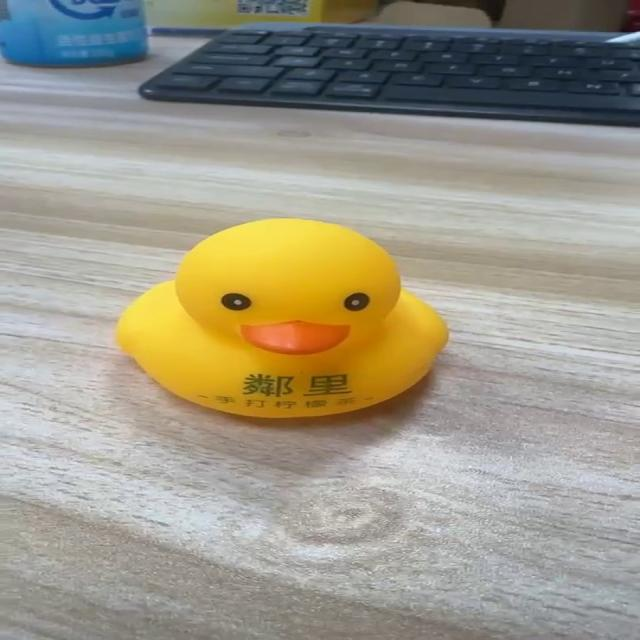yellow_duck: (112, 216, 450, 419)
